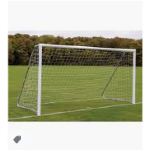goals: (17, 42, 137, 116)
